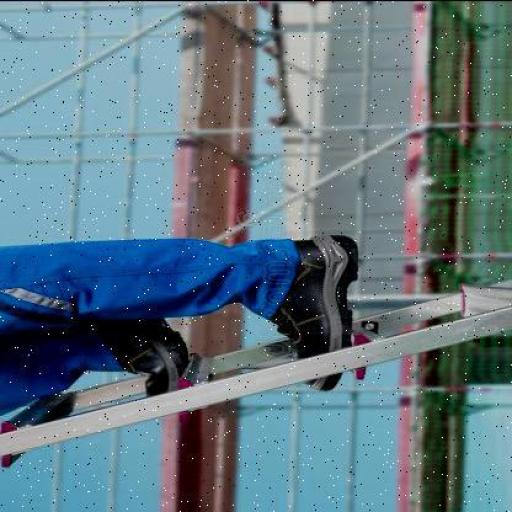safety_shoe: (274, 234, 362, 372), (106, 320, 192, 402)
